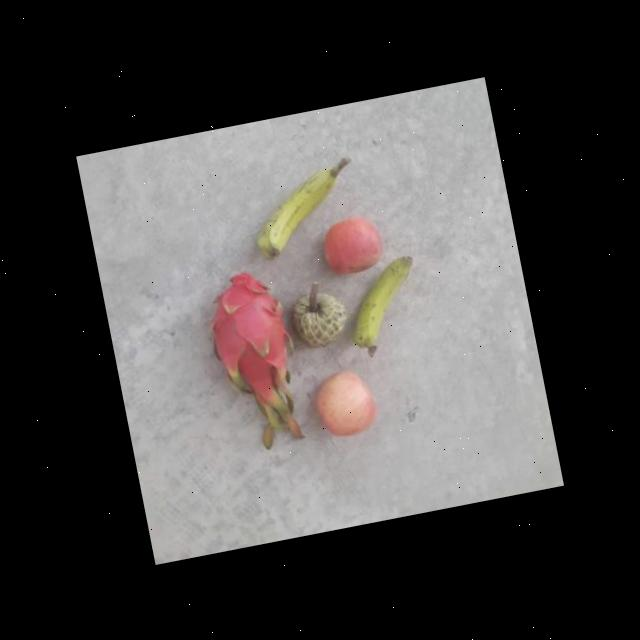Sakya fruit: (282, 284, 354, 353)
apple: (308, 365, 384, 441), (316, 210, 390, 284)
banana: (244, 157, 364, 259), (343, 251, 430, 357)
pitaya: (202, 260, 304, 408)
